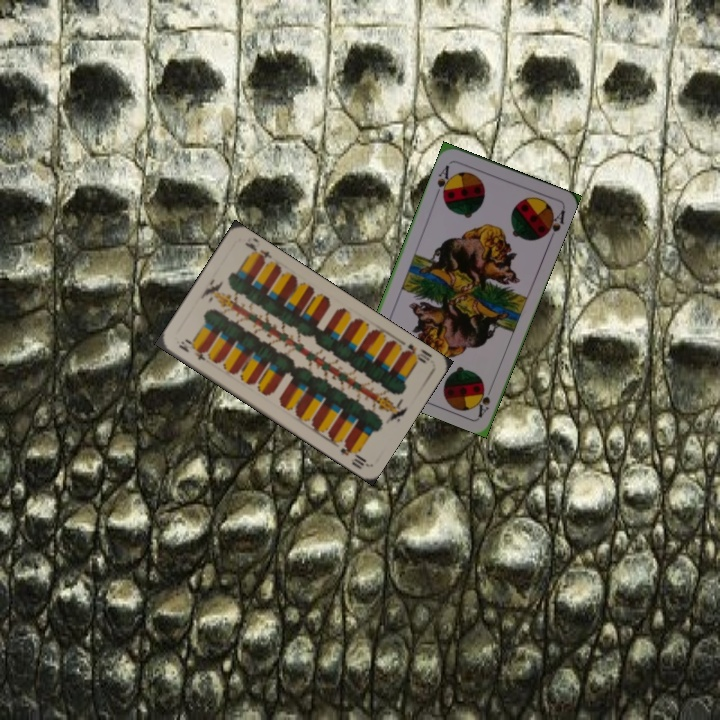E10: (395, 339, 434, 366), (175, 336, 208, 363)
SA: (473, 380, 497, 419), (431, 161, 454, 201)
